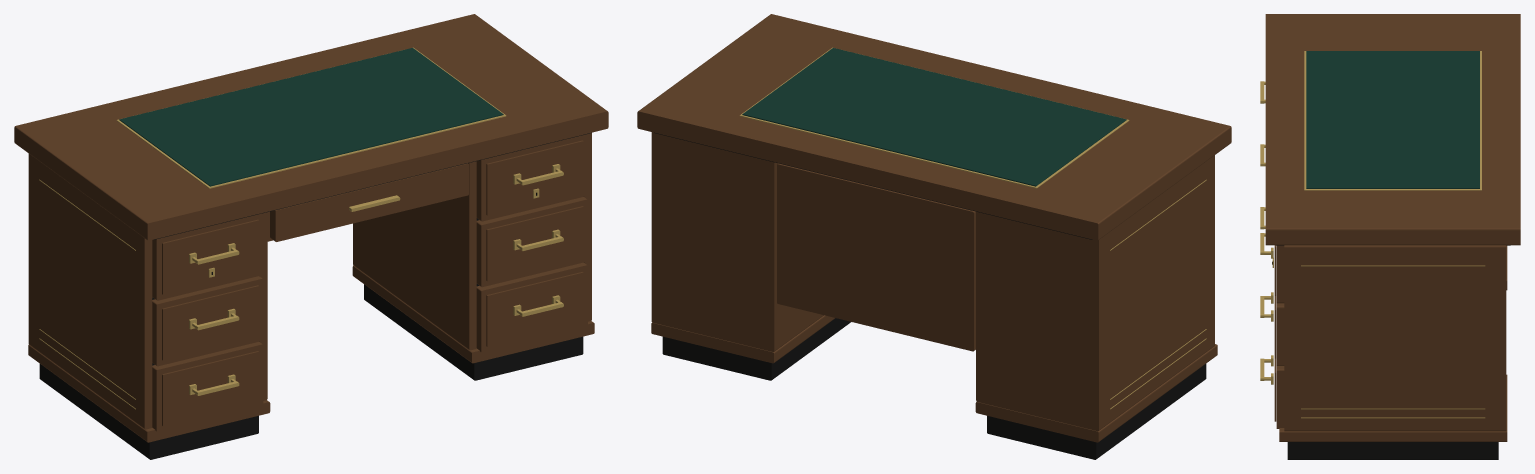
The model's file is desk.glb.
3 views of the same model, side by side, from view 1: azimuth 30°, elevation 25°; view 2: azimuth 150°, elevation 25°; view 3: azimuth 270°, elevation 25° (orthographic). The views are drawn at different scales.
Parts seen in each view (by area): view 1: wood, leather, dark, brass; view 2: wood, leather, dark, brass; view 3: wood, leather, dark, brass.
Part boxes in pixels (x1,y1,x2,y2): wood: (14,14,608,442); leather: (119,48,503,186); dark: (39,132,591,459); brass: (39,47,563,409); wood: (637,14,1231,442); leather: (742,48,1126,186); dark: (654,132,1206,459); brass: (739,47,1206,409); wood: (1265,14,1520,441); leather: (1306,51,1479,188); dark: (1272,245,1510,459); brass: (1260,51,1484,418).
Size of the model in its own units: 1.52 by 0.7885 by 0.776.
